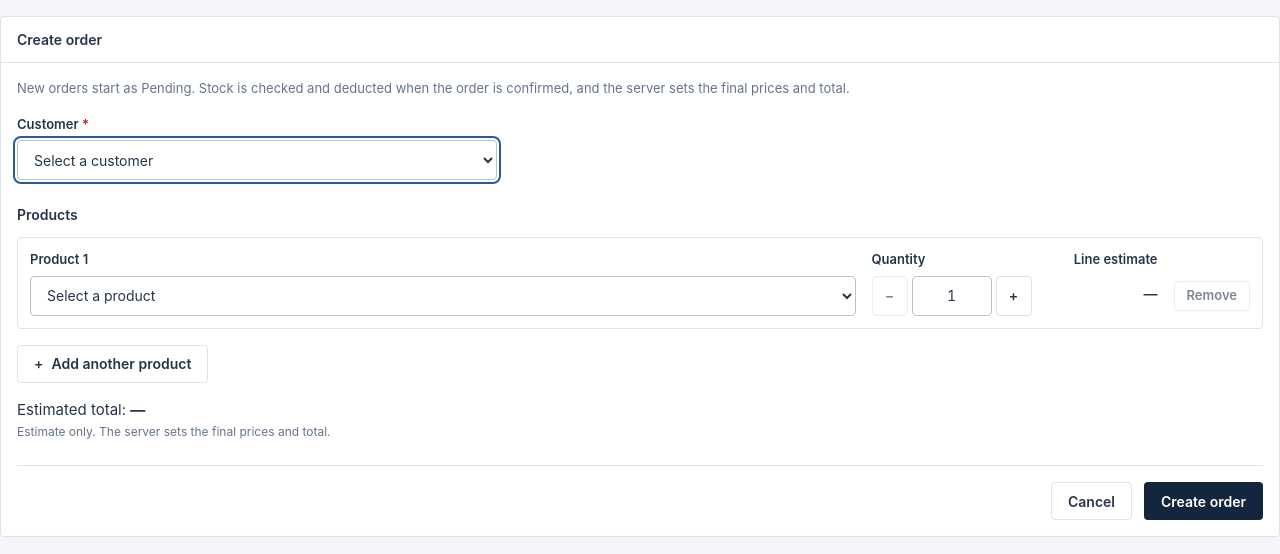
Test: lines and totals › plus and minus change the quantity within 1 and the maximum
This screenshot has width=1280, height=554.
expect the dropdown labelled "Customer *" is shown: met, box [17,140,497,180]
Step 1. Click the button named "Increase quantity for product 1" → (1014, 296), box [996,276,1032,316]
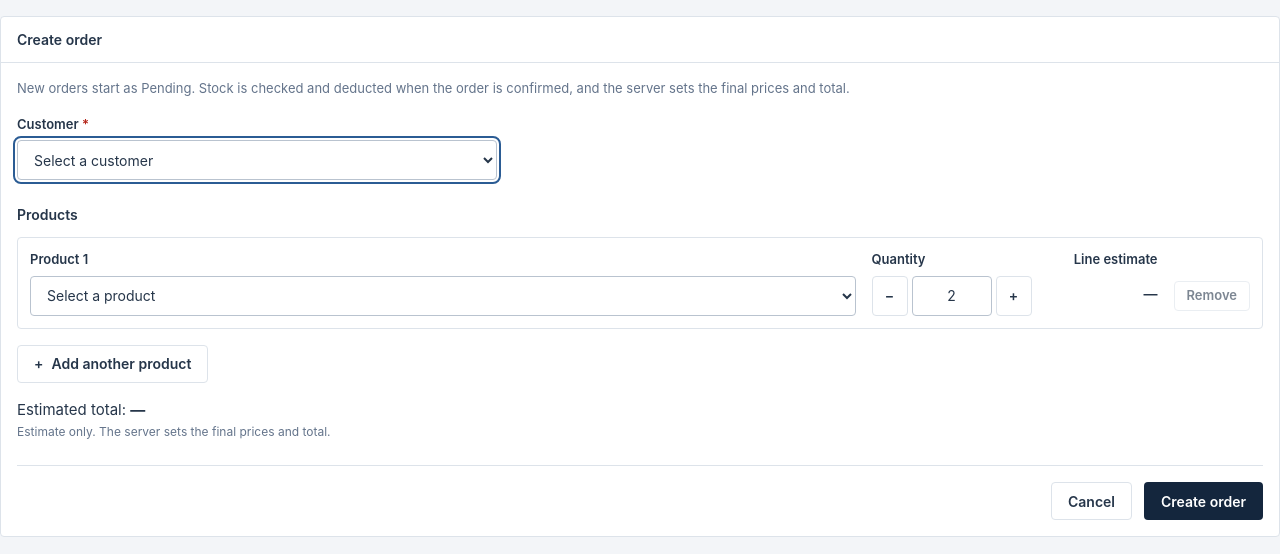
expect the field labelled "Quantity" holds "2": met, box [912,276,992,316]
Step 2. Click the button named "Decrease quantity for product 1" → (890, 296), box [872,276,908,316]
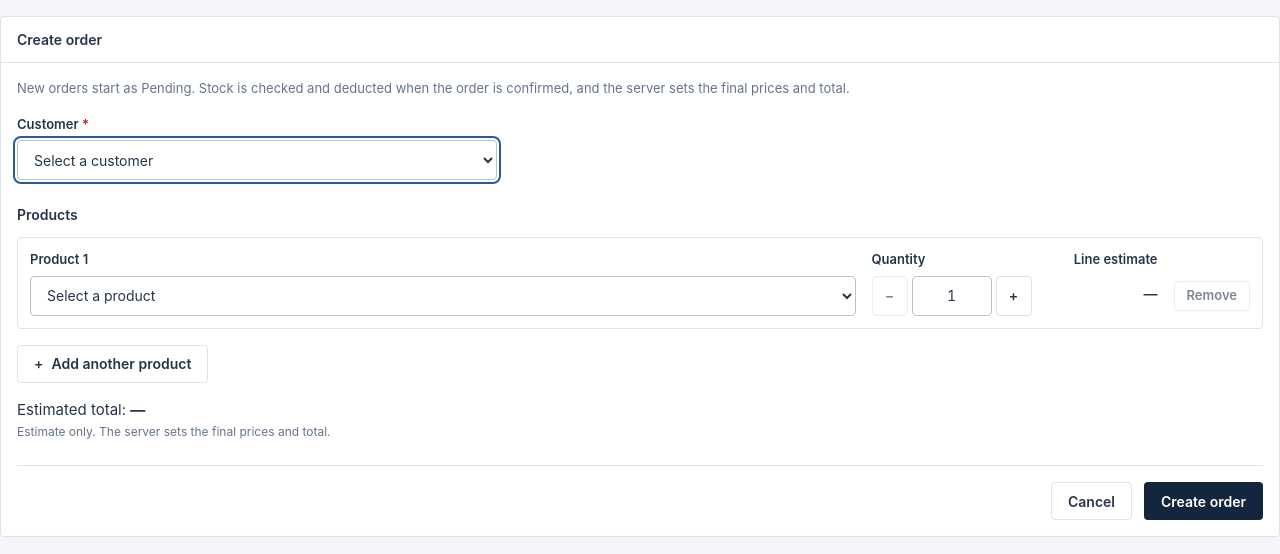
expect the field labelled "Quantity" holds "1": met, box [912,276,992,316]
